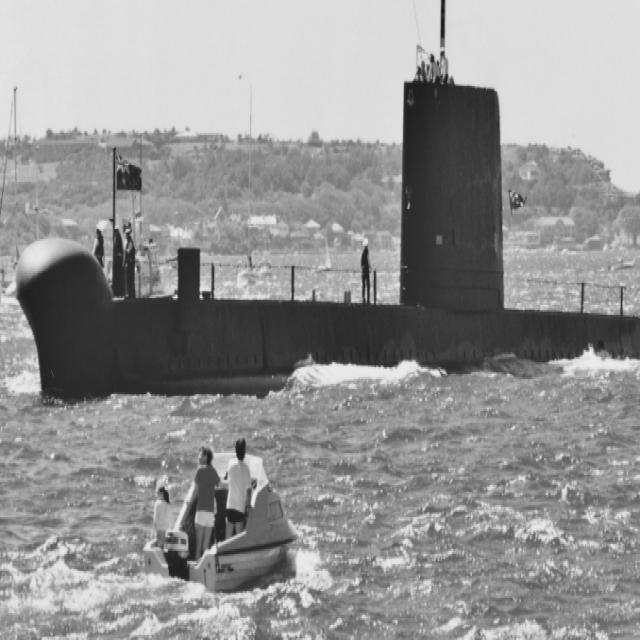submarine: (13, 85, 640, 407)
